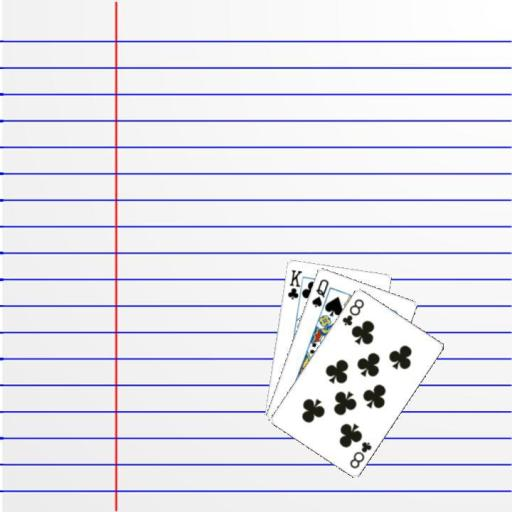8C: (339, 295, 366, 327), (347, 438, 374, 470)
KC: (284, 267, 306, 304)
QS: (309, 275, 330, 309)
